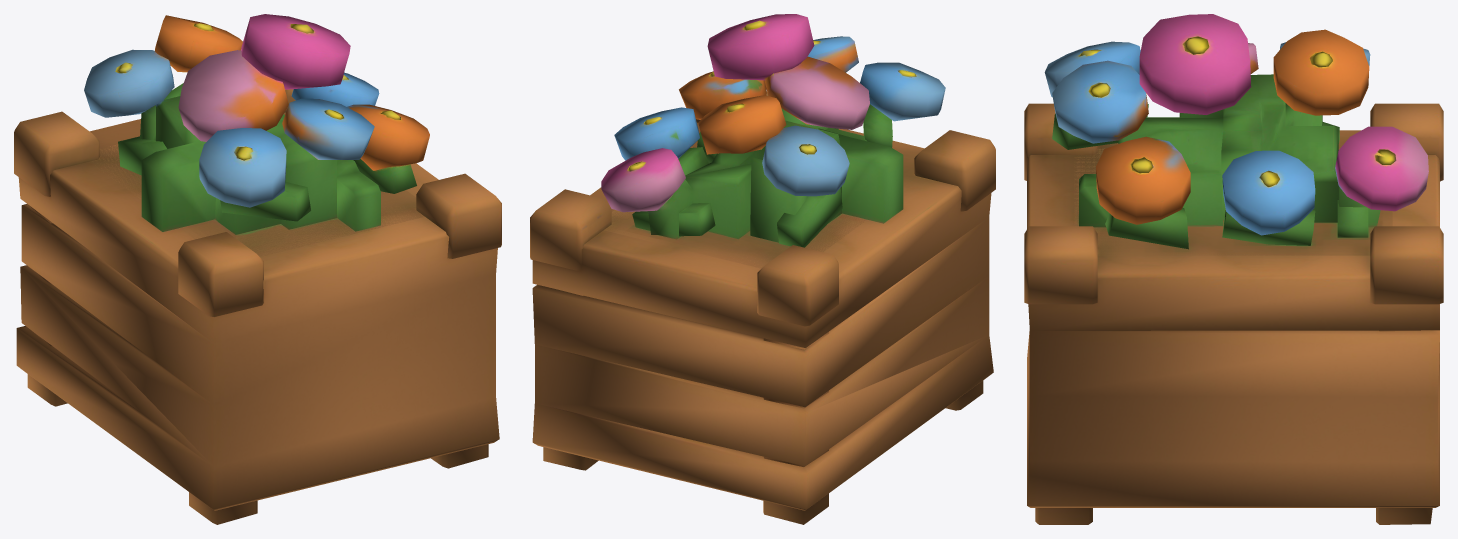
Rendered from planter.glb.
3 renders of one model, left to right at view 1: azimuth 30°, elevation 25°; view 2: azimuth 150°, elevation 25°; view 3: azimuth 270°, elevation 25°, orthographic. The views are drawn at different scales.
Parts seen in each view (by area): view 1: tripo_node_b7dde2f7-a79f-421c-aac6-7b86ff211df5; view 2: tripo_node_b7dde2f7-a79f-421c-aac6-7b86ff211df5; view 3: tripo_node_b7dde2f7-a79f-421c-aac6-7b86ff211df5.
Boxes of the visible parts, left/top/right/bottom form: tripo_node_b7dde2f7-a79f-421c-aac6-7b86ff211df5: left=14, top=14, right=501, bottom=524; tripo_node_b7dde2f7-a79f-421c-aac6-7b86ff211df5: left=530, top=14, right=995, bottom=524; tripo_node_b7dde2f7-a79f-421c-aac6-7b86ff211df5: left=1024, top=14, right=1443, bottom=524.
Bounding box in the file's own units: 0.748 × 0.998 × 0.8809.
1 material, 1 textured.
